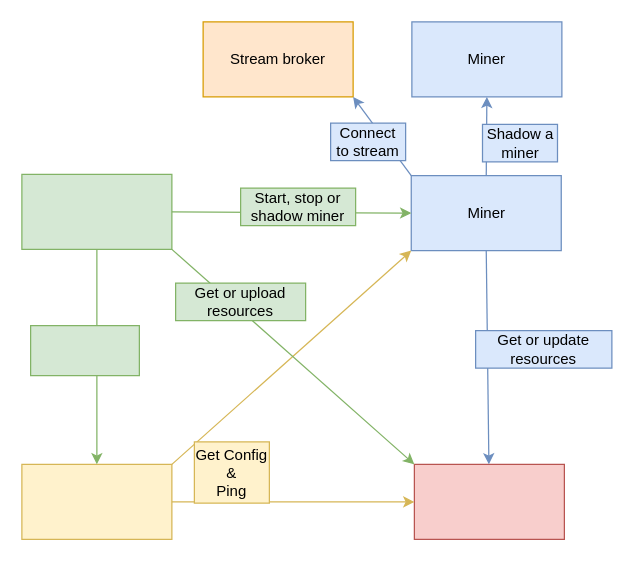
Image size: 634x561. Some labels were removed from this diagram. Each missing label, with the centre of its shape:
"Discoverability and online status" belongs at point 84,350.
"Frontend" belongs at point 96,211.
"Repository" belongs at point 488,501.
"Service Registry" belongs at point 96,501.
